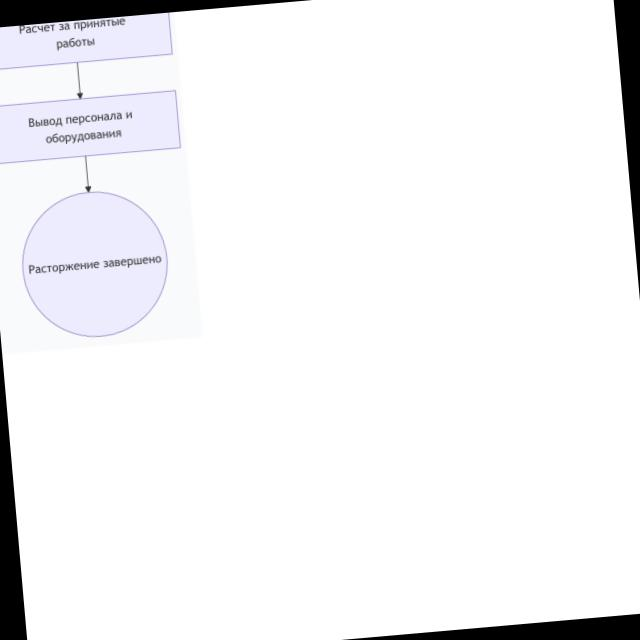arrow: (77, 63, 83, 99), (85, 157, 91, 192)
circle: (23, 192, 167, 337)
rectangle: (0, 91, 180, 163)
